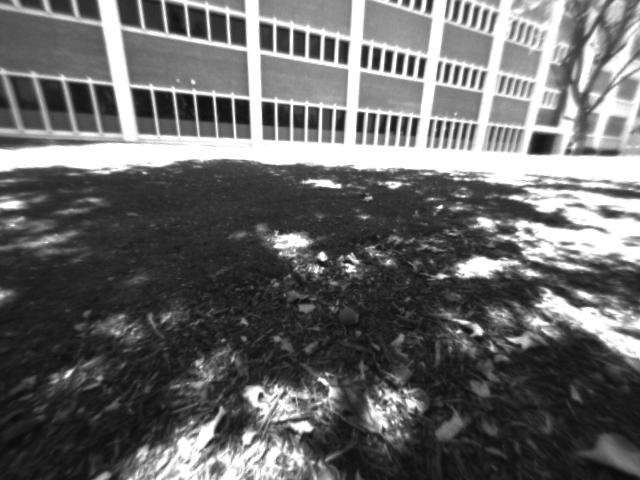dogtoy: (334, 299, 363, 328)
